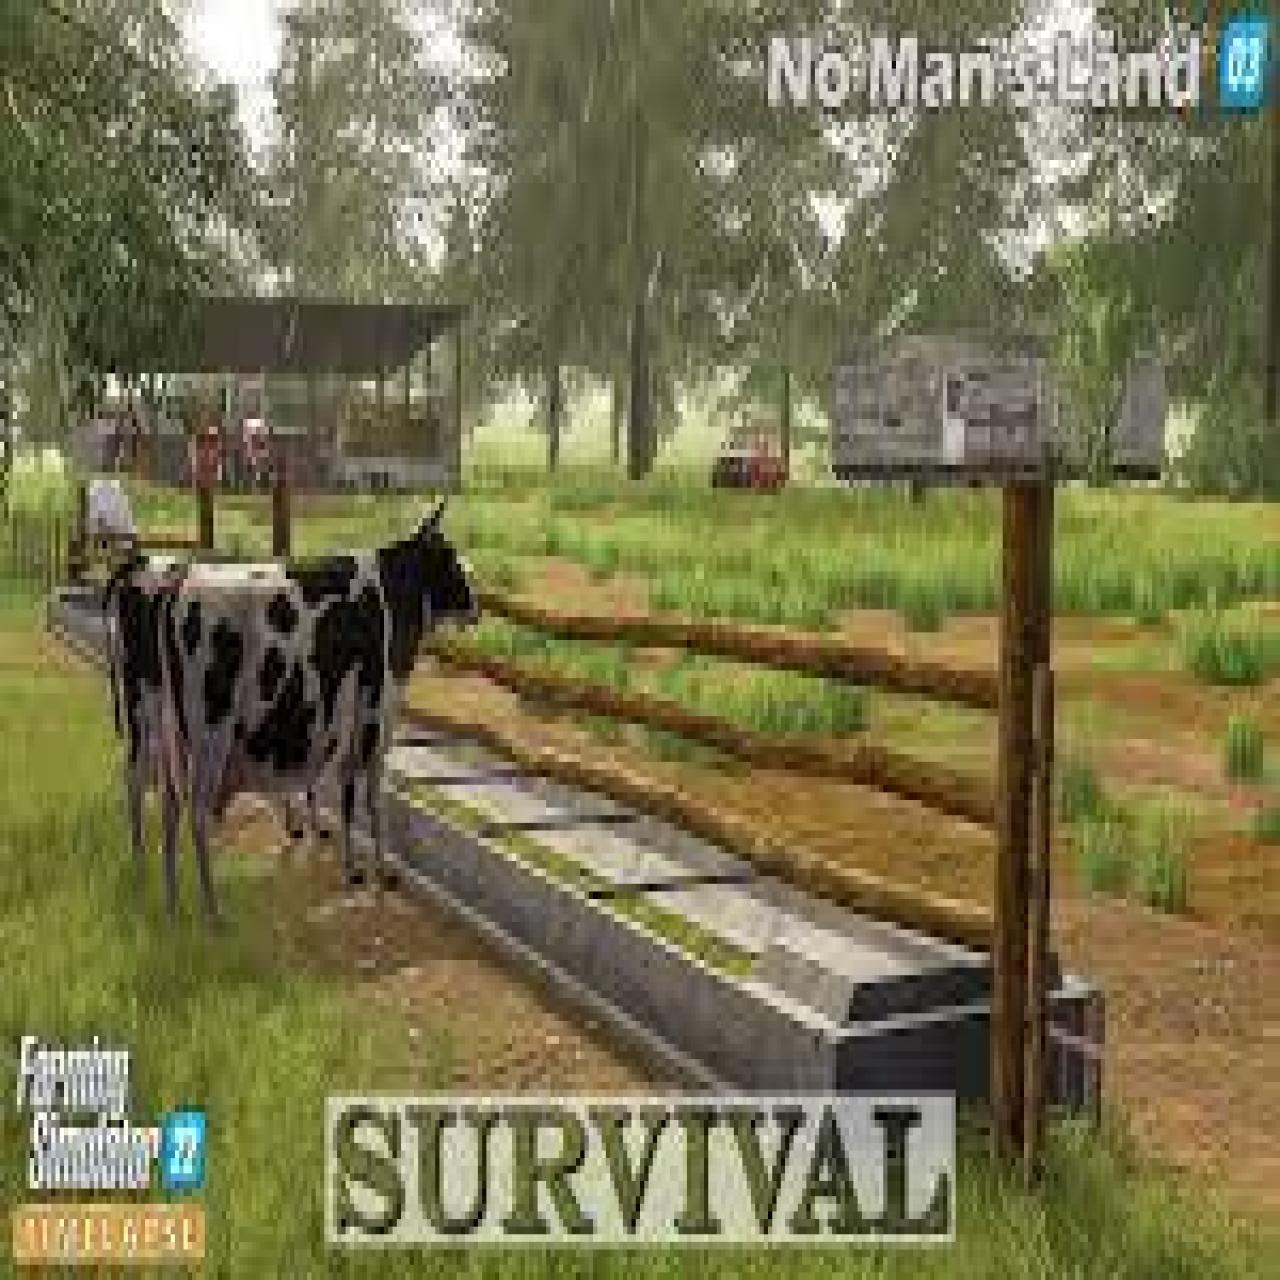cow: (151, 533, 479, 930)
